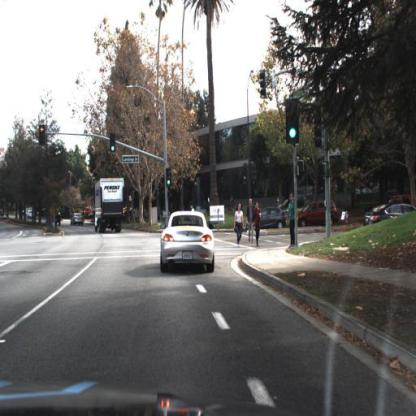car: (160, 212, 218, 274), (363, 198, 416, 226), (363, 203, 416, 228), (298, 203, 340, 226), (253, 206, 287, 229), (70, 211, 85, 229), (71, 212, 86, 228)
pedestrian: (234, 204, 244, 248), (287, 192, 295, 247), (254, 203, 262, 252), (247, 197, 255, 245)
trafficLight-Green: (286, 98, 299, 147), (165, 168, 174, 190), (109, 133, 117, 153)
trafficLight-RedLeft: (40, 126, 48, 145)
truck: (94, 175, 125, 238)
